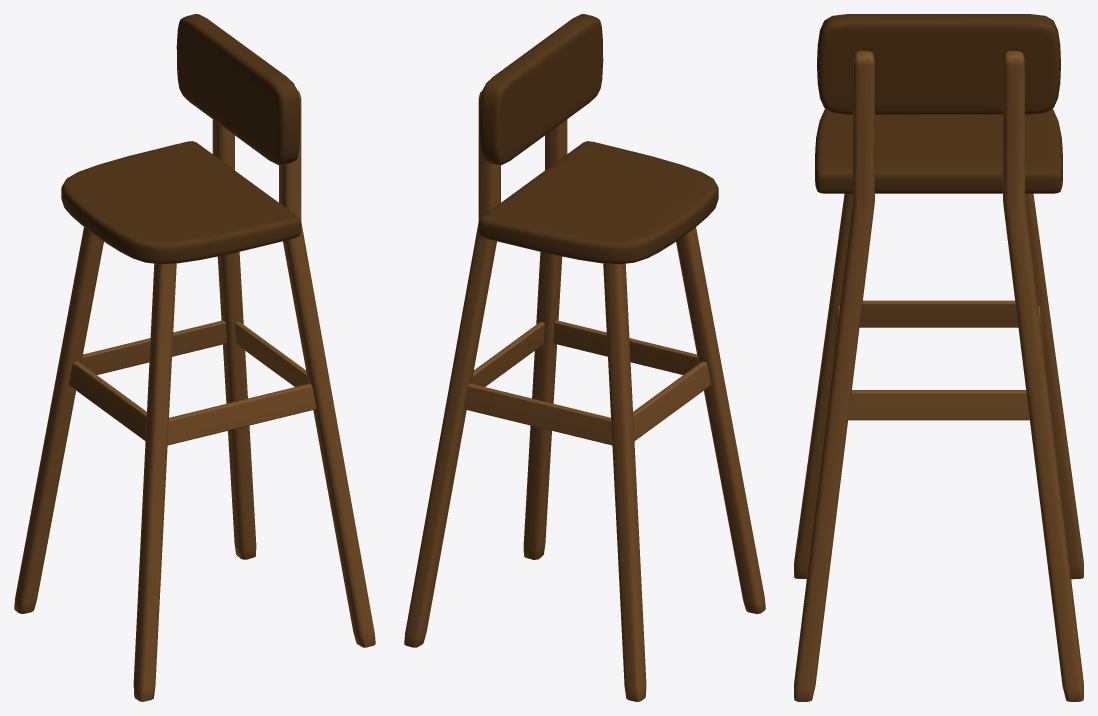
The model's file is barstool_01_wooden_brown.fbx.
3 renders of one model, left to right at view 1: azimuth 30°, elevation 25°; view 2: azimuth 150°, elevation 25°; view 3: azimuth 270°, elevation 25°, orthographic. The views are drawn at different scales.
Visible parts, largest first — view 1: barstool_01_wooden_brown; view 2: barstool_01_wooden_brown; view 3: barstool_01_wooden_brown.
Boxes of the visible parts, <box> form: barstool_01_wooden_brown: <box>14,14,375,701</box>; barstool_01_wooden_brown: <box>404,14,765,701</box>; barstool_01_wooden_brown: <box>794,14,1083,701</box>.
Bounding box in the file's own units: 50.15 × 116 × 47.09.
1 material, 1 textured.
